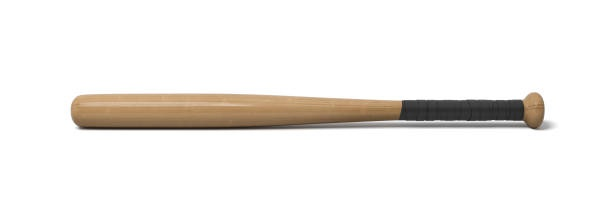bita: (71, 80, 541, 131)
